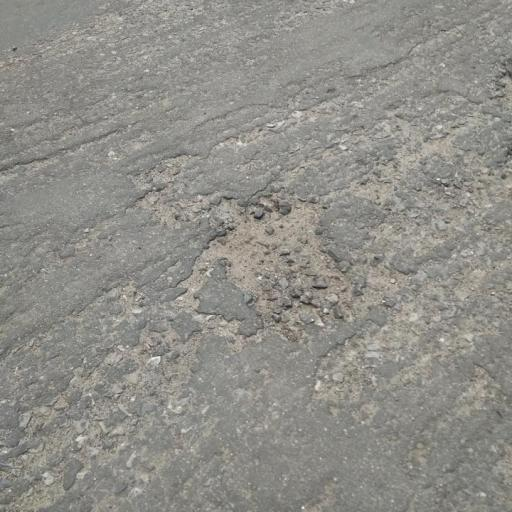pothole: (193, 187, 353, 332)
